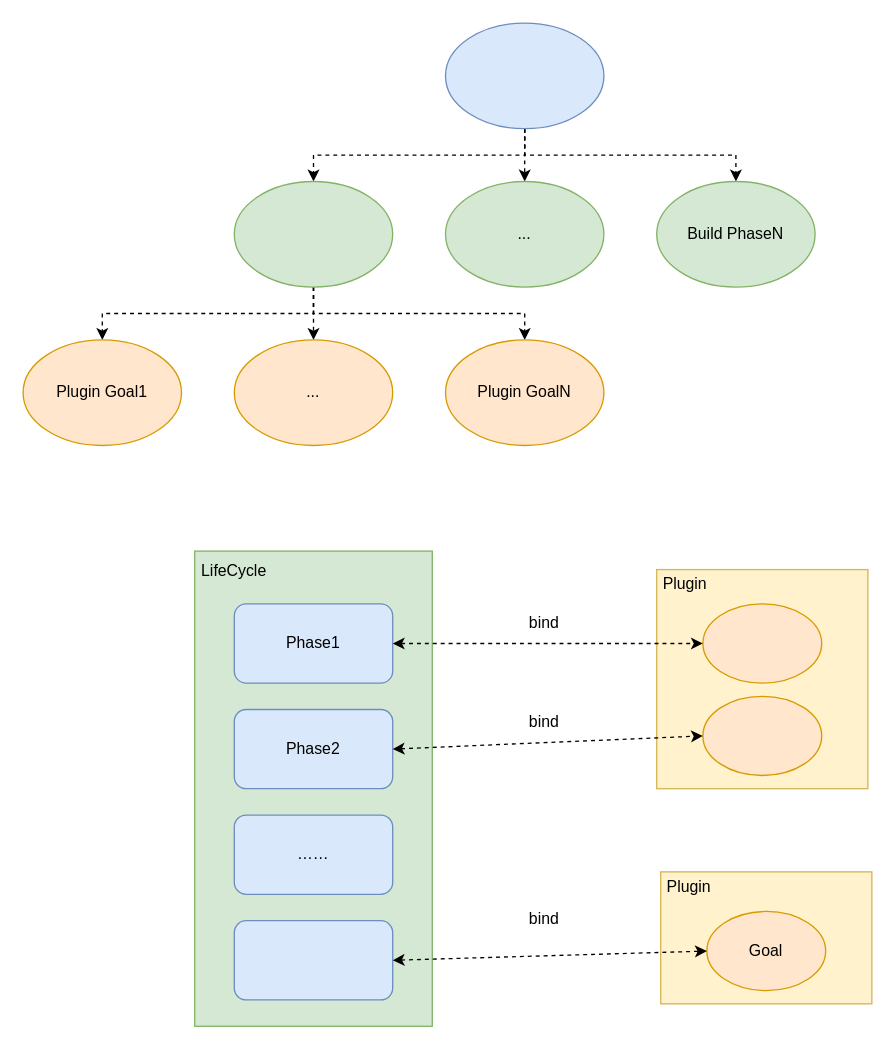
The diagram is 895 pixels wide and 1049 high, and some of its shapes have lost their labels. The shapes that lost their labels are listed below. From the top down, each one's centre as x and y in pixels, then its label:
point (524, 75): Build Lifecycle
point (313, 233): Build Phase1
point (762, 643): Goal1
point (762, 735): Goal2
point (313, 959): PhaseN
